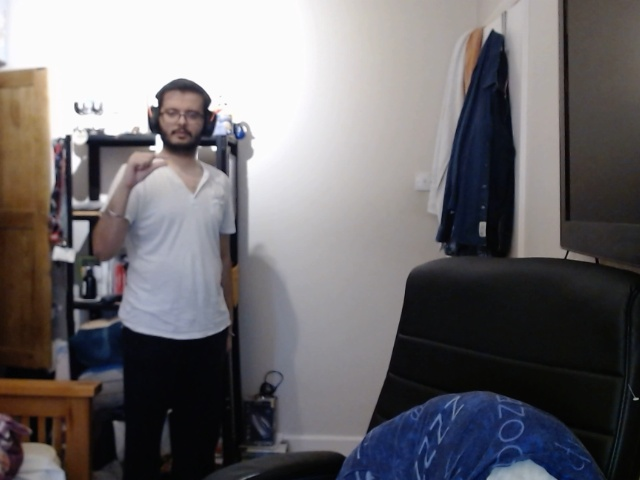Small: (120, 147, 171, 186)
